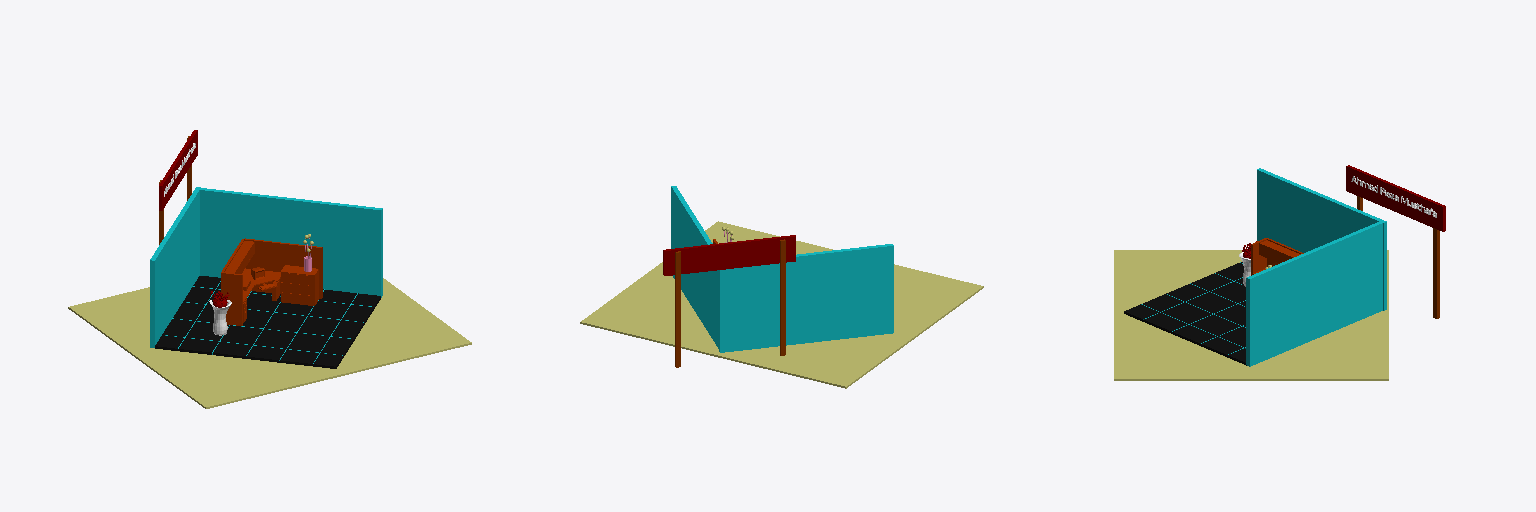
3 renders of one model, left to right at view 1: azimuth 30°, elevation 25°; view 2: azimuth 150°, elevation 25°; view 3: azimuth 270°, elevation 25°, orthographic.
Visible parts, largest first — view 1: 19_-_Default, default, 16_-_Default, 09_-_Default, 15_-_Default, 22_-_rt; view 2: 19_-_Default, default, 15_-_Default, 23_-_Default; view 3: 19_-_Default, default, 16_-_Default, 15_-_Default, 09_-_Default, 23_-_Default, 22_-_rt.
Part boxes in pixels (x1,y1,x2,y2): 19_-_Default: (150,187,382,363); default: (68,238,471,408); 16_-_Default: (155,276,380,368); 09_-_Default: (221,238,322,325); 15_-_Default: (159,130,229,307); 22_-_rt: (164,143,231,335); 19_-_Default: (671,186,893,352); default: (580,221,983,388); 15_-_Default: (663,235,795,275); 23_-_Default: (675,239,785,367); 19_-_Default: (1141,168,1386,366); default: (1114,250,1388,380); 16_-_Default: (1124,262,1246,365); 15_-_Default: (1242,165,1445,258); 09_-_Default: (1251,238,1303,275); 23_-_Default: (1357,196,1439,318); 22_-_rt: (1239,176,1436,286).
Size of the model in its own units: 966 by 418 by 1043.